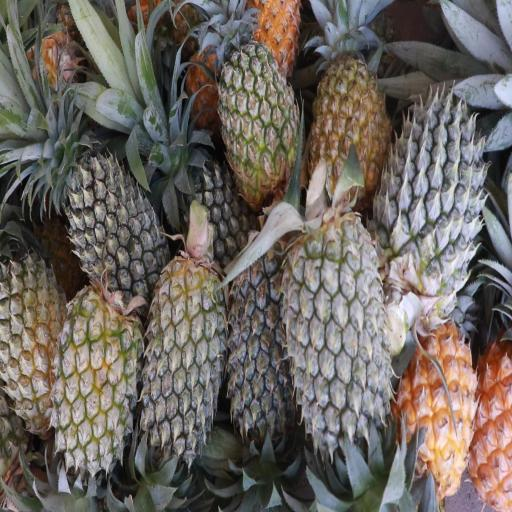------------------------------: (59, 284, 139, 467), (0, 246, 68, 433), (223, 40, 298, 196)
Pineapple - v8 v1: (399, 324, 475, 495), (316, 47, 388, 208)
